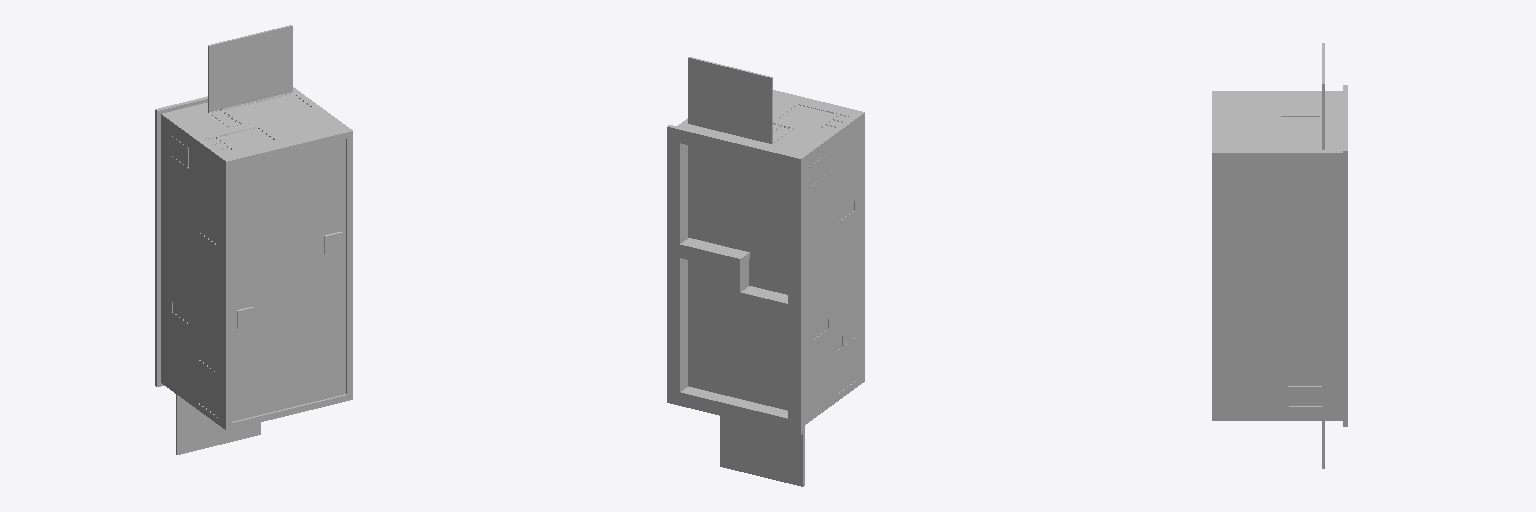
The model's file is DuplexArcModel.obj.
3 renders of one model, left to right at view 1: azimuth 30°, elevation 25°; view 2: azimuth 150°, elevation 25°; view 3: azimuth 270°, elevation 25°, orthographic.
Parts seen in each view (by area): view 1: 3ThA22djr8AQQ9eQMA5s7I, 2O2Fr$t4X7Zf8NOew3FNhv, 1CZILmCaHETO8tf3SgGEWh, 2O2Fr$t4X7Zf8NOew3FLPP, 0jf0rYHfX3RAB3bSIRjmr1, 2O2Fr$t4X7Zf8NOew3FKE5, 1CZILmCaHETO8tf3SgGEXu, 2O2Fr$t4X7Zf8NOew3FLQD, 0jf0rYHfX3RAB3bSIRjmpw, 2O2Fr$t4X7Zf8NOew3FNtn, 0kF45Qs8L9PAM9kmb1lT5t, 0jf0rYHfX3RAB3bSIRjmmy (+4 smaller); view 2: 2O2Fr$t4X7Zf8NOew3FKcz, 2O2Fr$t4X7Zf8NOew3FK4F, 2O2Fr$t4X7Zf8NOew3FNhv, 1CZILmCaHETO8tf3SgGEWh, 2O2Fr$t4X7Zf8NOew3FLPP, 1CZILmCaHETO8tf3SgGEXu, 0kF45Qs8L9PAM9kmb1lT5d, 0kF45Qs8L9PAM9kmb1lT5t, 0kF45Qs8L9PAM9kmb1lT5l, 2O2Fr$t4X7Zf8NOew3FKE5, 0kF45Qs8L9PAM9kmb1lT5$, 2O2Fr$t4X7Zf8NOew3FK9N (+9 smaller); view 3: 2O2Fr$t4X7Zf8NOew3FNqI, 2O2Fr$t4X7Zf8NOew3FLR9, 2O2Fr$t4X7Zf8NOew3FK9N, 0jf0rYHfX3RAB3bSIRjmpw, 2O2Fr$t4X7Zf8NOew3FLQD, 2O2Fr$t4X7Zf8NOew3FNtn, 1l0GAJtRTFv8$zmKJOH4pU, 0kF45Qs8L9PAM9kmb1lT5d, 1hOSvn6df7F8_7GcBWlR72, 2O2Fr$t4X7Zf8NOew3FK80, 1hOSvn6df7F8_7GcBWlSXO, 1hOSvn6df7F8_7GcBWlRGQ (+1 smaller).
Part boxes in pixels (x1,y1,x2,y2): 3ThA22djr8AQQ9eQMA5s7I: (232, 139, 345, 421); 2O2Fr$t4X7Zf8NOew3FNhv: (171, 128, 196, 402); 1CZILmCaHETO8tf3SgGEWh: (208, 25, 292, 111); 2O2Fr$t4X7Zf8NOew3FLPP: (197, 141, 220, 425); 0jf0rYHfX3RAB3bSIRjmr1: (221, 165, 231, 423); 2O2Fr$t4X7Zf8NOew3FKE5: (161, 121, 170, 383); 1CZILmCaHETO8tf3SgGEXu: (176, 394, 260, 454); 2O2Fr$t4X7Zf8NOew3FLQD: (197, 110, 346, 157); 0jf0rYHfX3RAB3bSIRjmpw: (346, 137, 352, 400); 2O2Fr$t4X7Zf8NOew3FNtn: (171, 91, 323, 145); 0kF45Qs8L9PAM9kmb1lT5t: (155, 106, 169, 373); 0jf0rYHfX3RAB3bSIRjmmy: (221, 127, 352, 167); 2O2Fr$t4X7Zf8NOew3FKcz: (688, 260, 787, 410); 2O2Fr$t4X7Zf8NOew3FK4F: (688, 145, 787, 294); 2O2Fr$t4X7Zf8NOew3FNhv: (810, 140, 835, 414); 1CZILmCaHETO8tf3SgGEWh: (688, 57, 772, 143); 2O2Fr$t4X7Zf8NOew3FLPP: (836, 117, 859, 401); 1CZILmCaHETO8tf3SgGEXu: (720, 416, 804, 486); 0kF45Qs8L9PAM9kmb1lT5d: (667, 125, 681, 405); 0kF45Qs8L9PAM9kmb1lT5t: (788, 154, 802, 421); 0kF45Qs8L9PAM9kmb1lT5l: (680, 391, 802, 434); 2O2Fr$t4X7Zf8NOew3FKE5: (803, 159, 809, 419); 0kF45Qs8L9PAM9kmb1lT5$: (680, 128, 789, 169); 2O2Fr$t4X7Zf8NOew3FK9N: (682, 144, 687, 390); 2O2Fr$t4X7Zf8NOew3FNqI: (1271, 159, 1321, 420); 2O2Fr$t4X7Zf8NOew3FLR9: (1222, 153, 1270, 420); 2O2Fr$t4X7Zf8NOew3FK9N: (1322, 159, 1342, 420); 0jf0rYHfX3RAB3bSIRjmpw: (1212, 159, 1221, 420); 2O2Fr$t4X7Zf8NOew3FLQD: (1222, 91, 1270, 152); 2O2Fr$t4X7Zf8NOew3FNtn: (1271, 91, 1321, 158); 1l0GAJtRTFv8$zmKJOH4pU: (1229, 159, 1268, 200); 0kF45Qs8L9PAM9kmb1lT5d: (1343, 144, 1347, 426); 1hOSvn6df7F8_7GcBWlR72: (1280, 116, 1320, 149); 2O2Fr$t4X7Zf8NOew3FK80: (1322, 91, 1342, 158); 1hOSvn6df7F8_7GcBWlSXO: (1229, 100, 1268, 119); 1hOSvn6df7F8_7GcBWlRGQ: (1288, 386, 1321, 407).
Bounding box in the file's own units: 9.28 × 26.57 × 8.18.